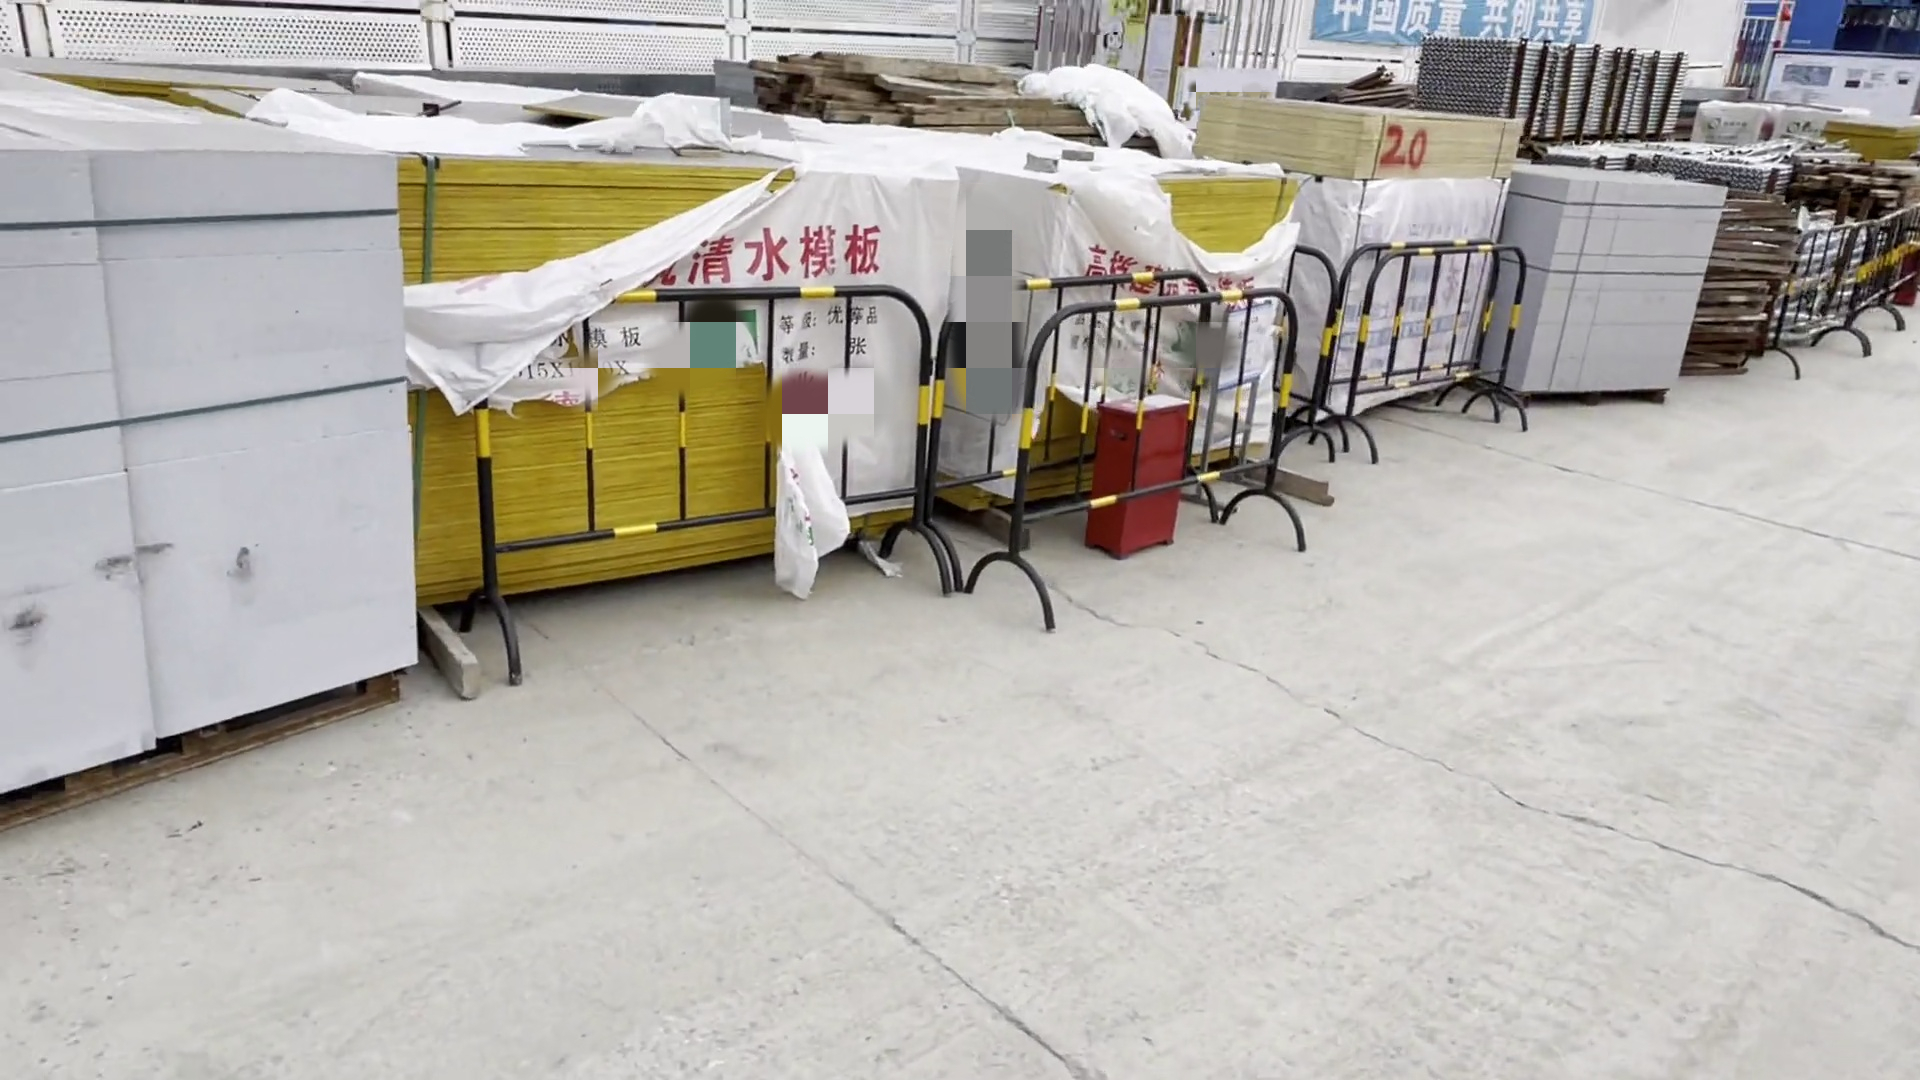brick: (1, 100, 418, 804), (1501, 161, 1700, 405)
fence: (471, 282, 928, 678), (948, 291, 1302, 655), (1298, 239, 1534, 475), (1749, 208, 1875, 378), (1870, 204, 1920, 344)
slogan: (1305, 1, 1594, 55)
